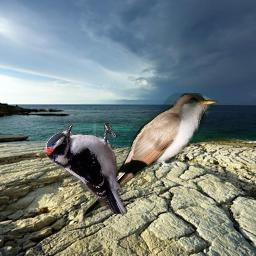Cuckoo: (77, 93, 219, 223)
Woodpecker: (44, 123, 127, 214)
